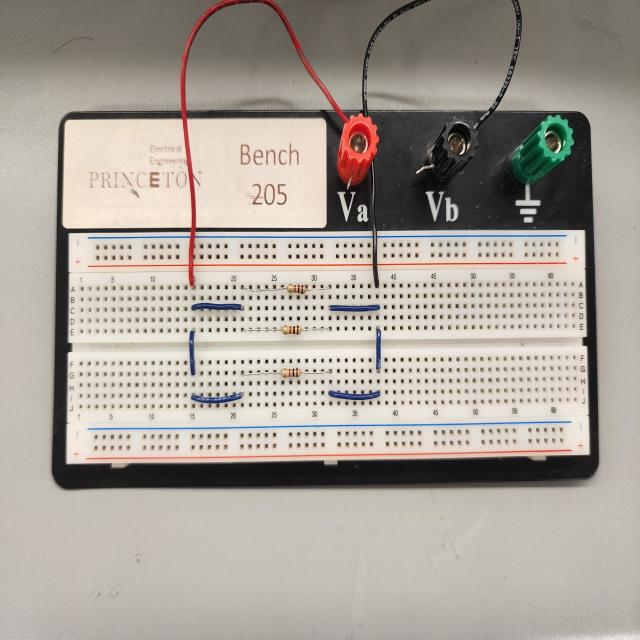Capacitor Electrolitico: (279, 321, 304, 337), (279, 364, 302, 381), (285, 282, 309, 297)
